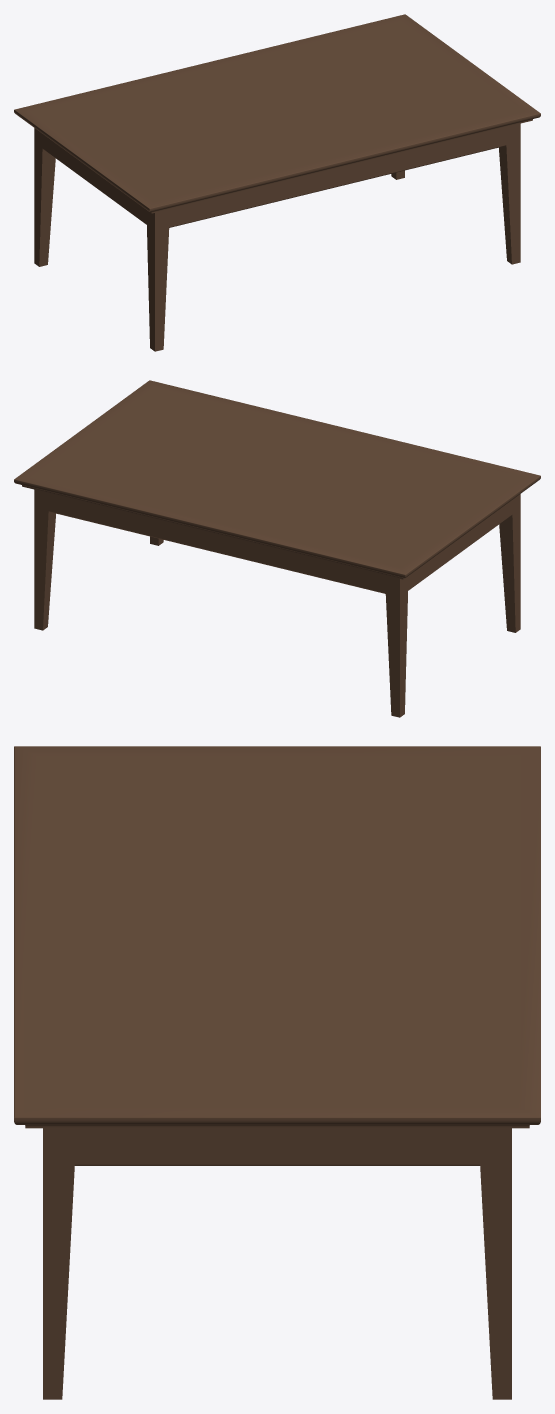
Rendered from desk.glb.
The picture shows the model from 3 angles, top to bottom: view 1: azimuth 30°, elevation 25°; view 2: azimuth 150°, elevation 25°; view 3: azimuth 270°, elevation 25°; orthographic projection. The views are drawn at different scales.
Parts seen in each view (by area): view 1: desk; view 2: desk; view 3: desk.
Part boxes in pixels (box(x1,y1,x2,y2)): desk: box(14, 14, 540, 351); desk: box(14, 380, 540, 717); desk: box(14, 746, 540, 1399).
Bounding box in the file's own units: 2 × 0.74 × 1.2.
